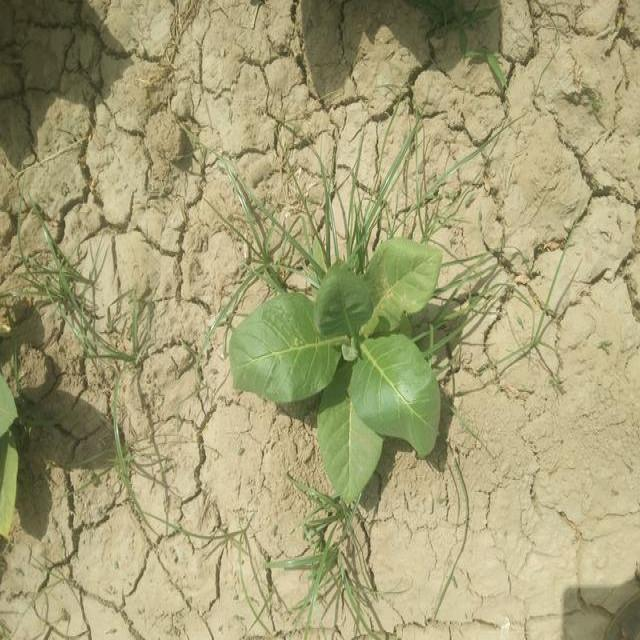crop: (218, 249, 442, 511)
